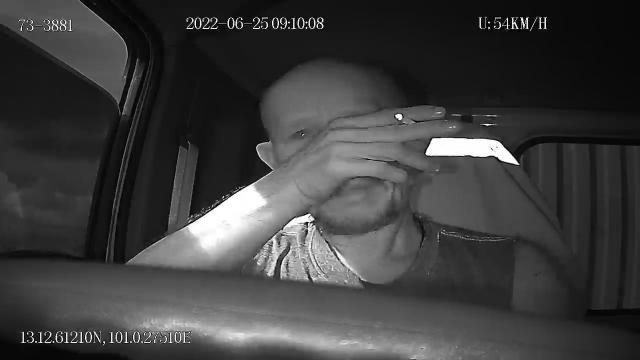Cigarette: (394, 111, 418, 127)
